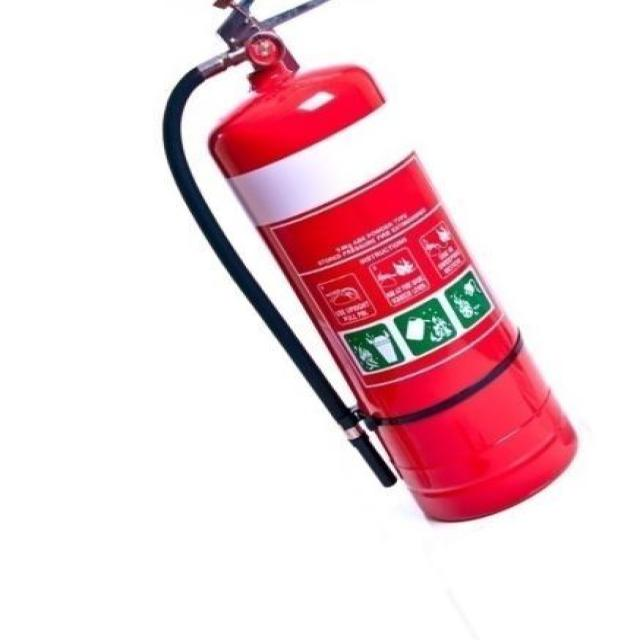fire_extinguisher: (153, 0, 585, 528)
